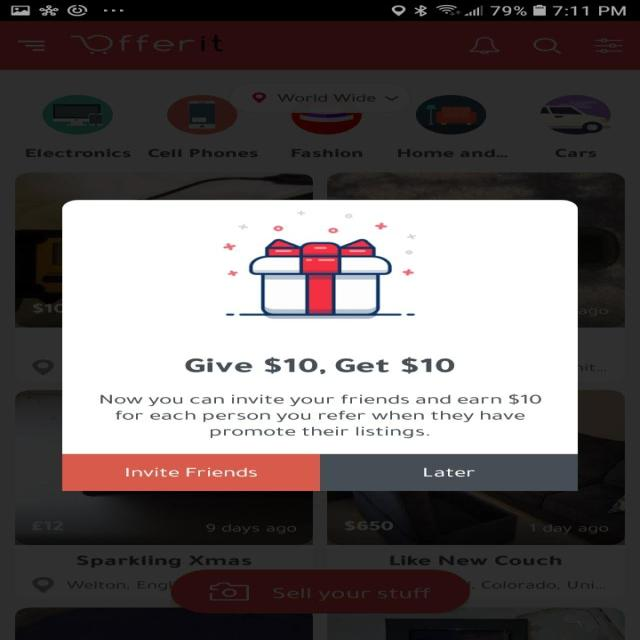Image: (222, 210, 416, 320)
Modal: (61, 199, 577, 491)
Text: (100, 394, 540, 438), (184, 357, 454, 374)
TextButton: (319, 454, 577, 491), (62, 454, 319, 491)
